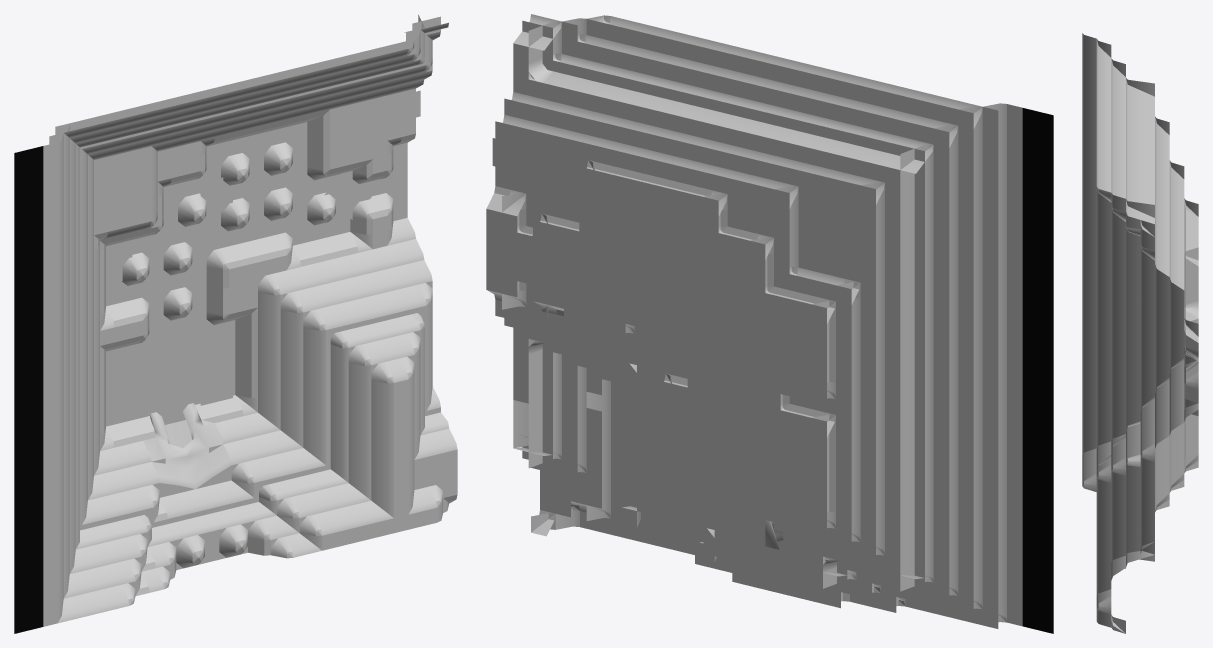
The model's file is Voltic-Cave_00_01.obj.
3 renders of one model, left to right at view 1: azimuth 30°, elevation 25°; view 2: azimuth 150°, elevation 25°; view 3: azimuth 270°, elevation 25°, orthographic. The views are drawn at different scales.
Parts seen in each view (by area): view 1: map; view 2: map; view 3: map.
Boxes of the visible parts, <box> form: map: <box>14,14,457,633</box>; map: <box>486,14,1053,633</box>; map: <box>1082,33,1198,633</box>.
Size of the model in its own units: 32.24 by 32 by 8.
